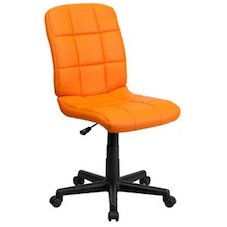chair: (22, 5, 190, 217)
